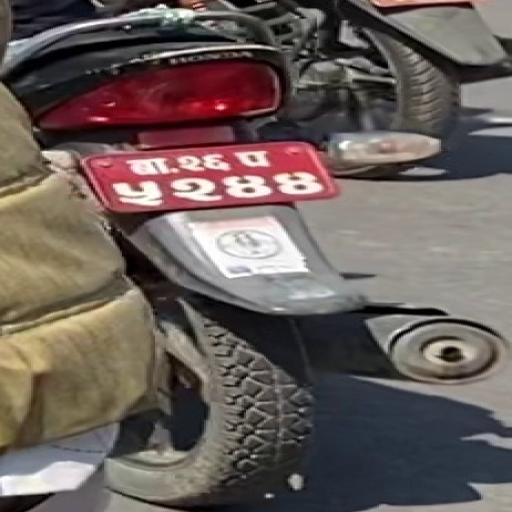license_plate: (70, 139, 350, 218)
